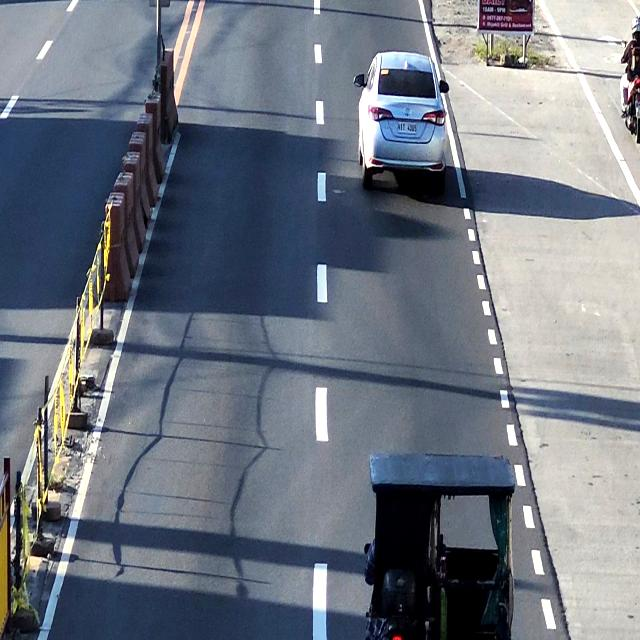Car: (357, 50, 448, 189)
License-Plate: (398, 121, 418, 136)
Tricycle: (362, 446, 516, 640)
